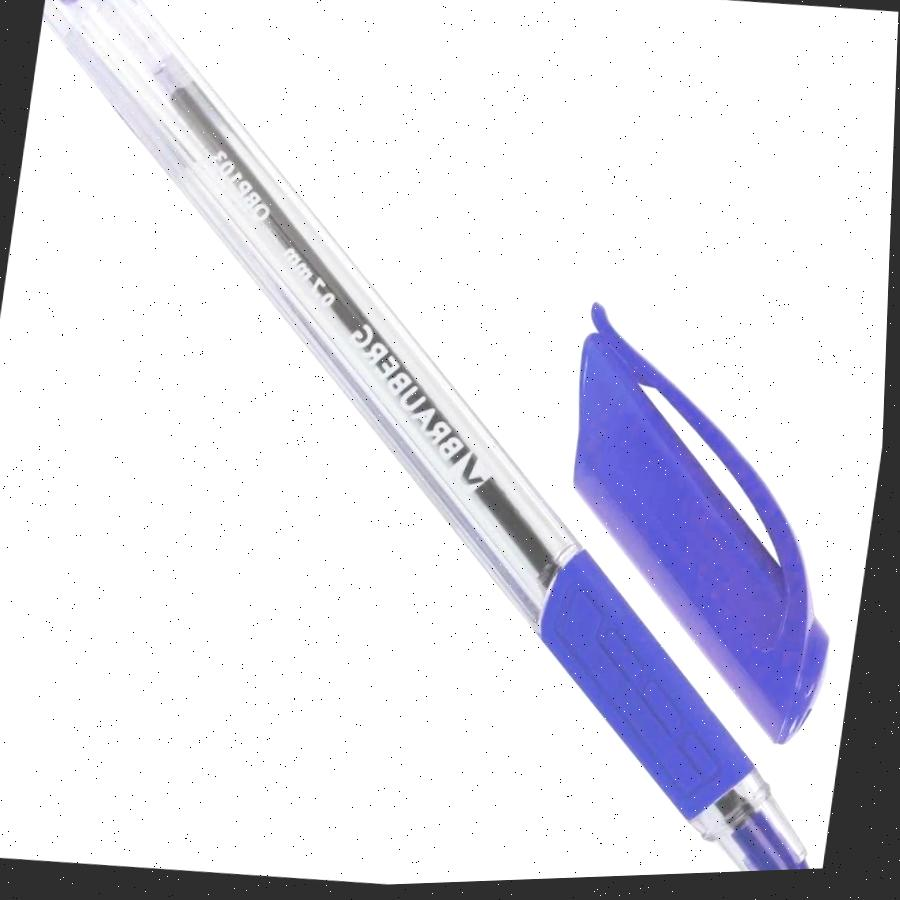pen-pencil: (42, 0, 813, 871), (574, 303, 827, 742)
